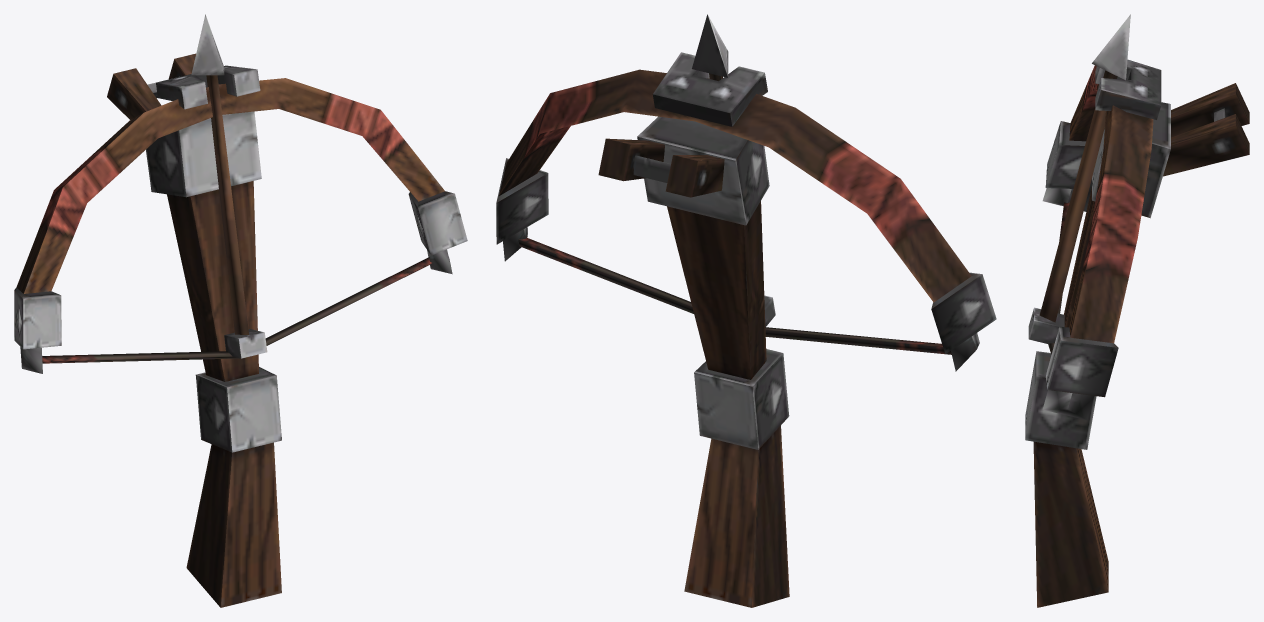
The model's file is crossbow_01.fbx.
3 renders of one model, left to right at view 1: azimuth 30°, elevation 25°; view 2: azimuth 150°, elevation 25°; view 3: azimuth 270°, elevation 25°, orthographic. The views are drawn at different scales.
Parts seen in each view (by area): view 1: Crossbow; view 2: Crossbow; view 3: Crossbow.
Part boxes in pixels (x1,y1,x2,y2): Crossbow: [14, 14, 467, 607]; Crossbow: [496, 14, 996, 607]; Crossbow: [1025, 14, 1249, 607].
Bounding box in the file's own units: 1.32 × 1.57 × 0.5509.
